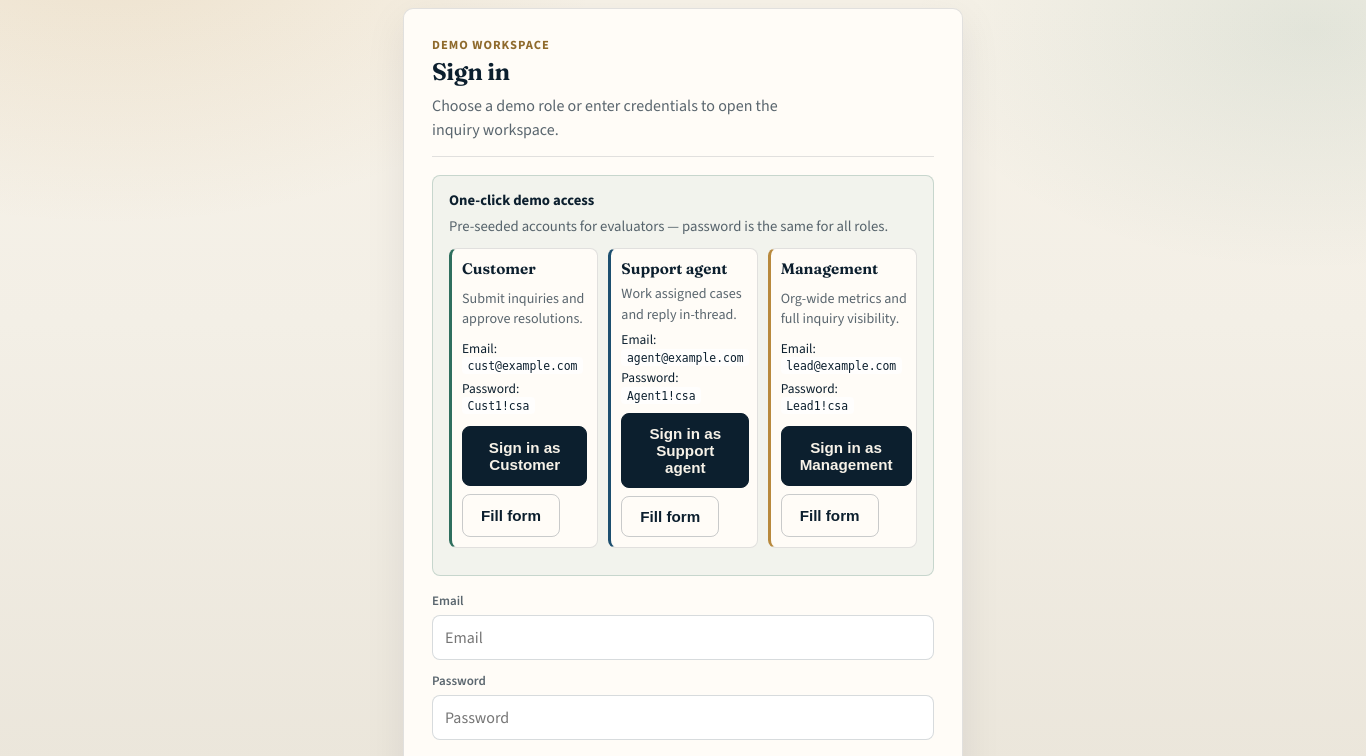
Test: LoginPage › Fill form button populates email/password inputs
What coordinates should you click on to do the following:
click the button "Fill form" below "Cust1!csa"
I would click on:
 (511, 516)
Its box is x1=462 y1=494 x2=560 y2=537.
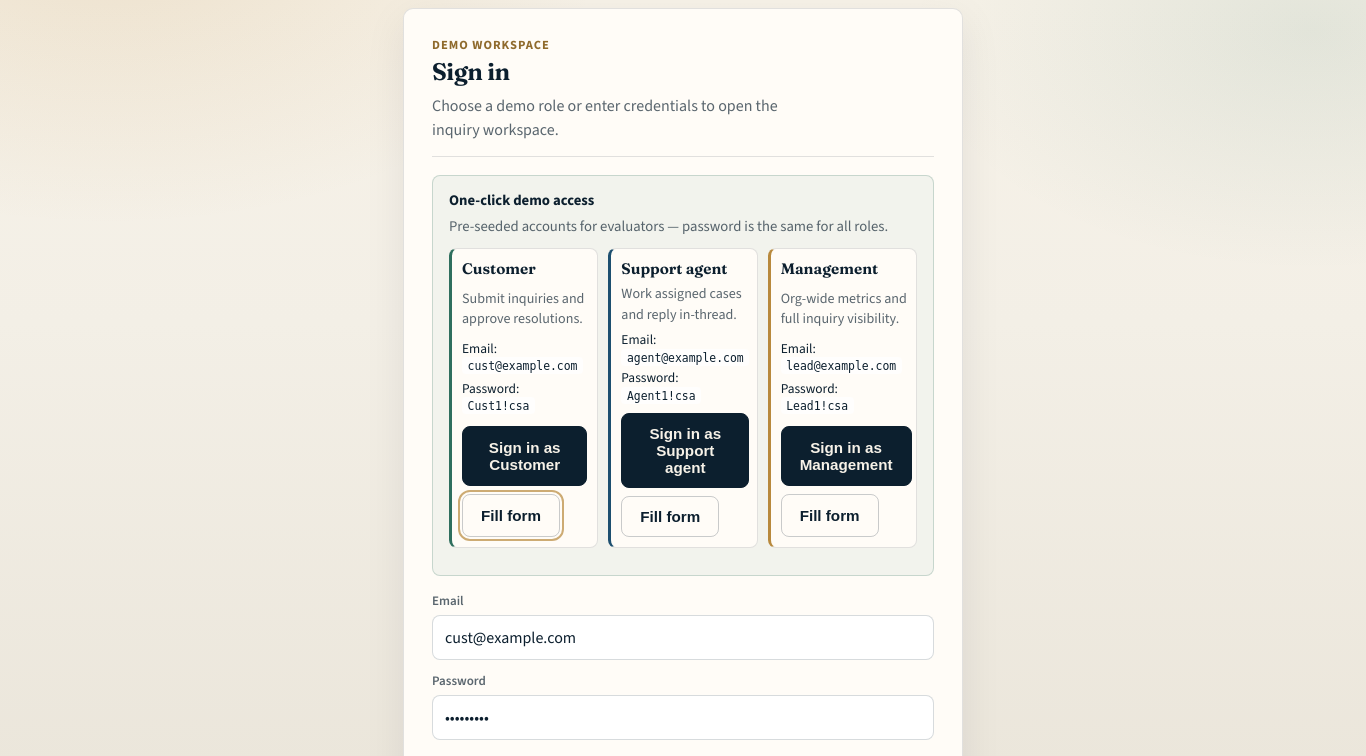
expect the field with placeholder "Email" holds "cust@example.com": met, box x1=432 y1=615 x2=934 y2=660
expect the password field with placeholder "Password" holds "Cust1!csa": met, box x1=432 y1=695 x2=934 y2=740
